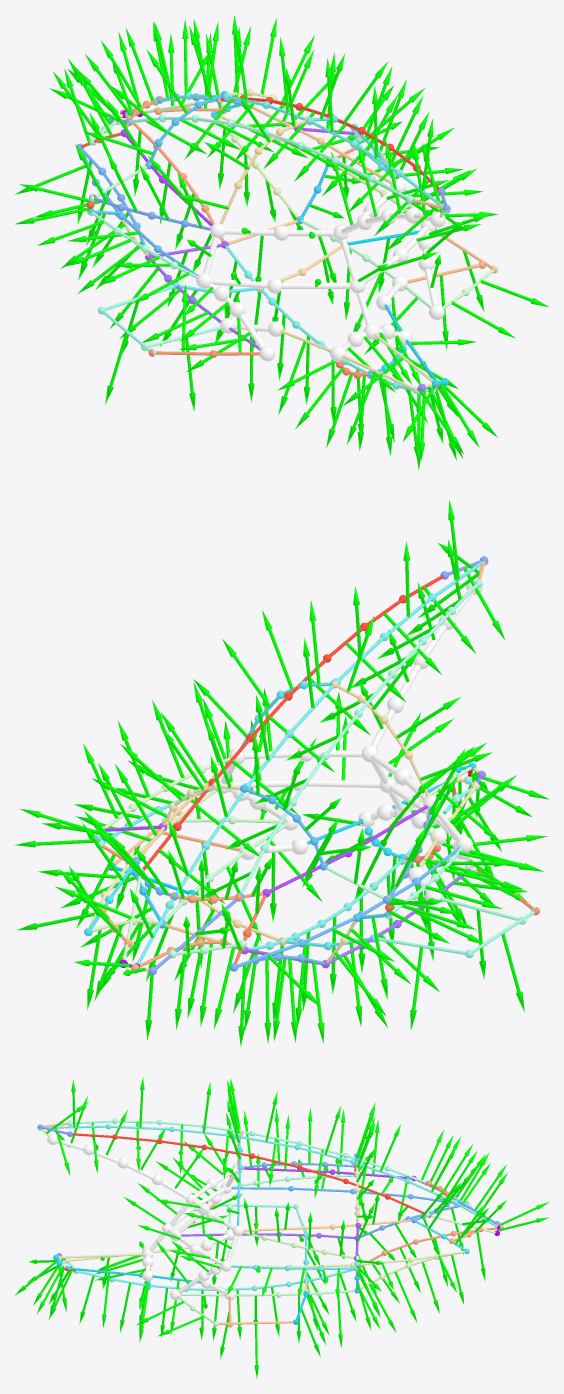
The model's file is ils_spacecraft_78.gltf.
3 views of the same model, one above another, from view 1: azimuth 30°, elevation 25°; view 2: azimuth 150°, elevation 25°; view 3: azimuth 270°, elevation 25° (orthographic). The views are drawn at different scales.
Size of the model in its own units: 0.5834 by 0.5137 by 0.9412.
